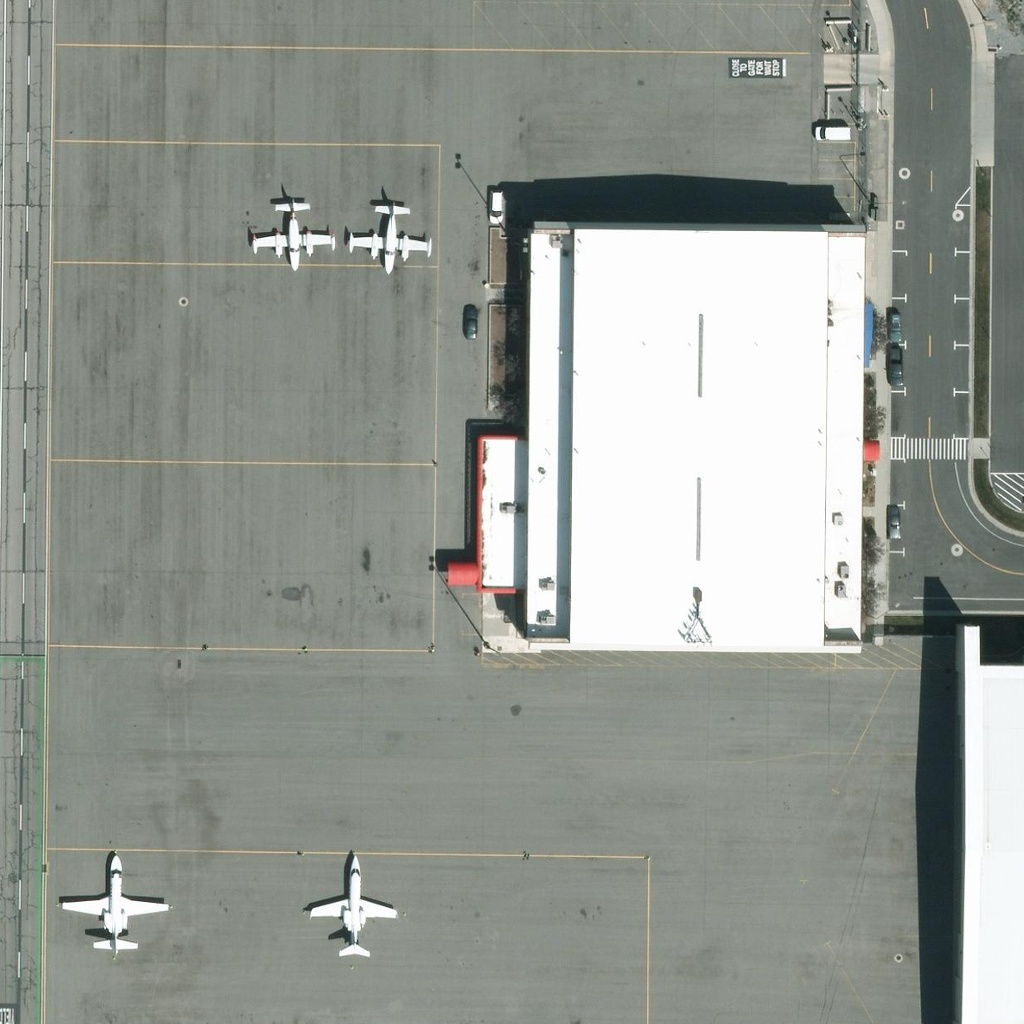car: (814, 116, 848, 150), (479, 188, 513, 222), (455, 305, 489, 339), (879, 308, 913, 342), (880, 353, 914, 387), (878, 504, 912, 538)
plane: (58, 858, 171, 959), (300, 853, 402, 959), (244, 193, 337, 274), (345, 195, 438, 276)
